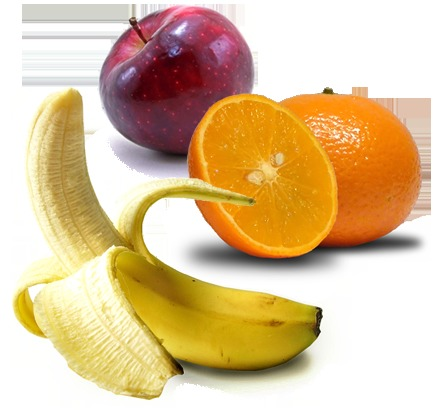apple: (103, 5, 267, 166)
banana: (25, 93, 310, 376)
orange: (253, 87, 426, 259)
